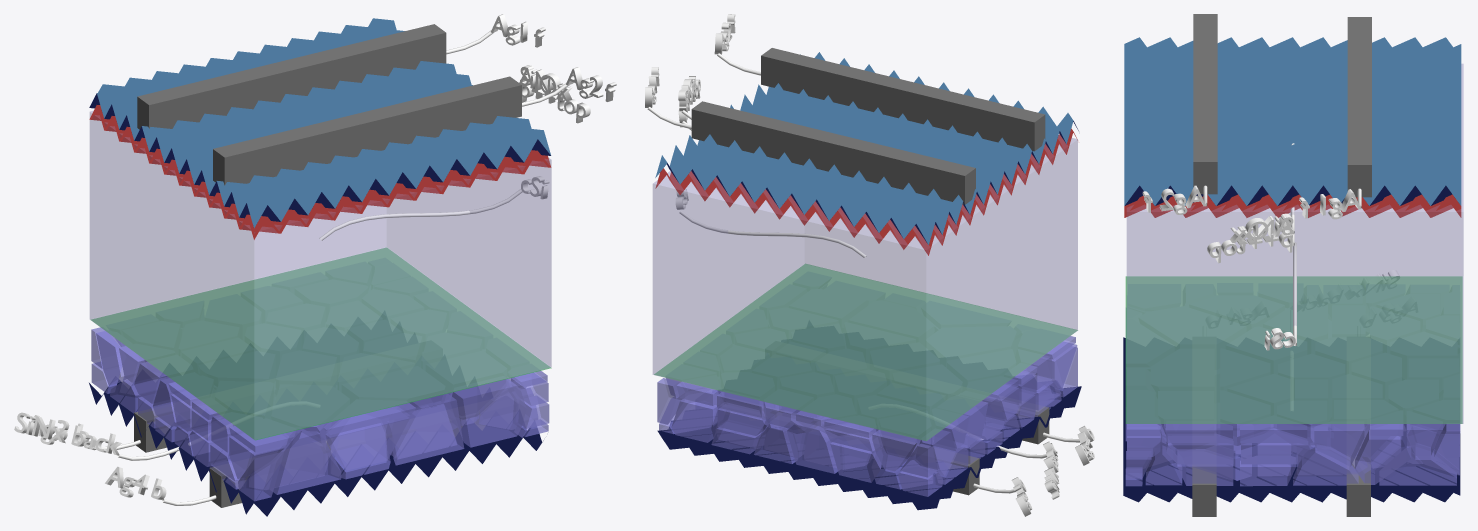
Rendered from TOPCon5.glb.
3 views of the same model, side by side, from view 1: azimuth 30°, elevation 25°; view 2: azimuth 150°, elevation 25°; view 3: azimuth 270°, elevation 25° (orthographic). The views are drawn at different scales.
Visible parts, largest first — view 1: cSi, SiOx, AlOx, Ag2 f, Ag1 f, SiNx back, p++top, PolySi_cell.014, PolySi_cell.006, PolySi_cell.059, PolySi_cell.005, SiNx (+31 smaller); view 2: cSi, SiOx, AlOx, Ag2 f, Ag1 f, SiNx back, p++top, PolySi_cell.054, PolySi_cell.052, PolySi_cell.034, PolySi_cell.015, PolySi_cell.074 (+40 smaller); view 3: cSi, SiOx, AlOx, SiNx back, Ag2 f, Ag1 f, p++top, PolySi_cell.080, PolySi_cell.074, PolySi_cell.008, PolySi_cell.009, PolySi_cell.021 (+32 smaller).
Boxes of the visible parts, x1,y1,x2,y2 form: cSi: (90,111,551,439); SiOx: (91,247,551,440); AlOx: (97,18,551,228); Ag2 f: (213,76,521,185); Ag1 f: (137,24,446,129); SiNx back: (89,380,543,516); p++top: (89,105,551,239); PolySi_cell.014: (451,379,526,447); PolySi_cell.006: (392,393,464,465); PolySi_cell.059: (325,409,409,470); PolySi_cell.005: (269,431,341,494); SiNx: (89,93,550,221); cSi: (653,135,1077,441); SiOx: (654,264,1077,440); AlOx: (655,52,1073,244); Ag2 f: (761,48,1045,151); Ag1 f: (691,101,975,204); SiNx back: (657,386,1081,510); p++top: (655,128,1077,255); PolySi_cell.054: (671,390,725,442); PolySi_cell.052: (787,424,840,473); PolySi_cell.034: (830,435,882,482); PolySi_cell.015: (872,440,932,489); PolySi_cell.074: (659,397,718,434); cSi: (1127,64,1463,423); SiOx: (1125,276,1462,423); AlOx: (1124,37,1461,205); SiNx back: (1123,337,1460,502); Ag2 f: (1193,14,1217,194); Ag1 f: (1347,17,1371,197); p++top: (1124,194,1461,217); PolySi_cell.080: (1355,424,1411,484); PolySi_cell.074: (1379,447,1456,485); PolySi_cell.008: (1241,431,1310,464); PolySi_cell.009: (1293,447,1358,485); PolySi_cell.021: (1166,436,1233,464).
Size of the model in its own units: 2.91 by 2.01 by 1.72.
